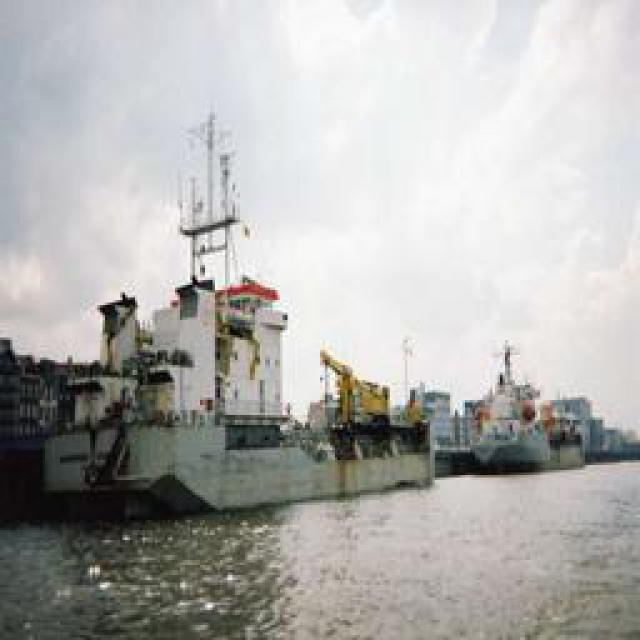Ship: (41, 107, 441, 519), (455, 340, 590, 473)
